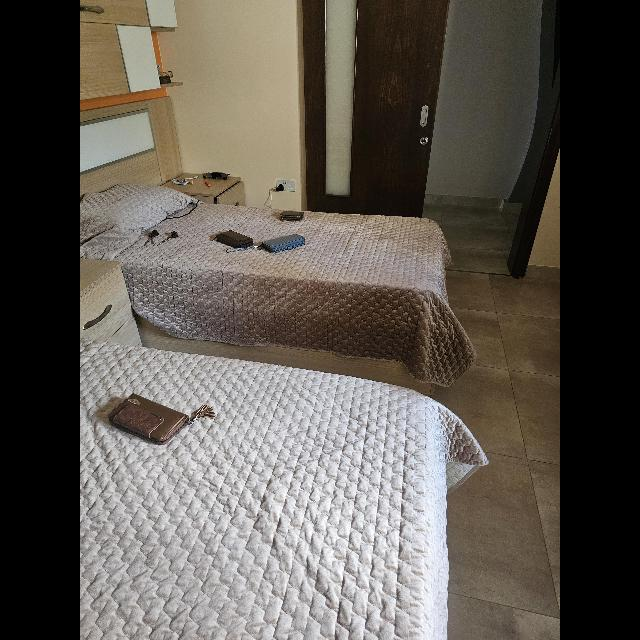Wallet: (108, 392, 194, 444), (261, 233, 305, 253), (215, 230, 255, 250), (280, 210, 304, 222)
